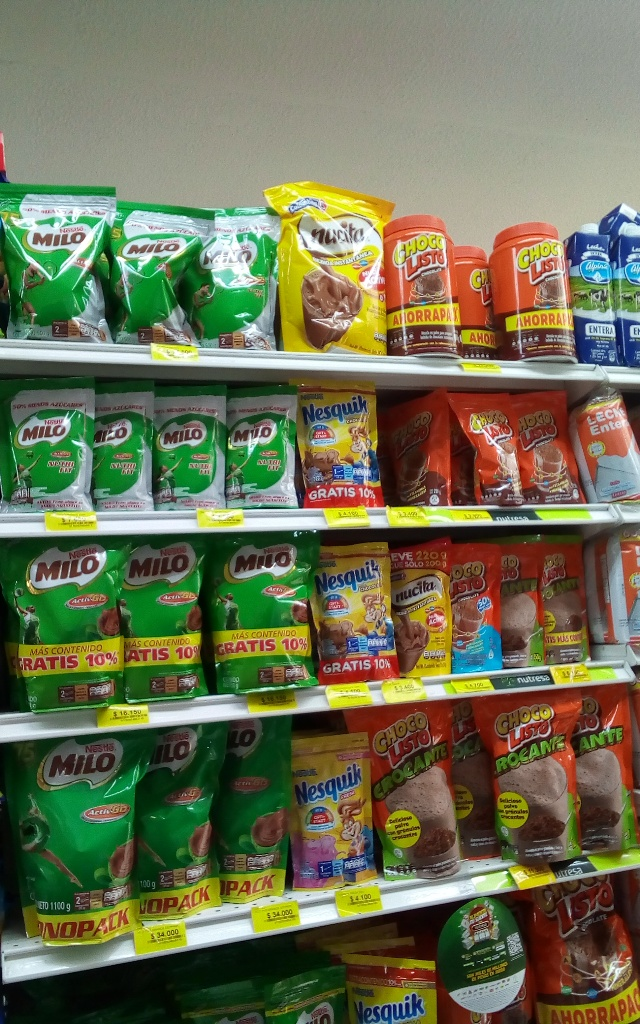COL0170102DYP25000: (535, 534, 592, 667)
COL0170102DYP50000: (573, 687, 639, 858)
COL0170103DYP1,500: (521, 884, 637, 1023)
COL0170103DYP20000: (519, 392, 583, 508)
COL0170103TRR00100: (489, 219, 573, 363)
COL0170104DYP20000: (452, 535, 503, 671)
COL0170203DYP50000: (209, 534, 319, 694)
COL0170205DYP20000: (223, 380, 293, 514)
COL0170303DYP20000: (305, 375, 384, 507)
COL0170305DYP20000: (293, 734, 379, 882)
